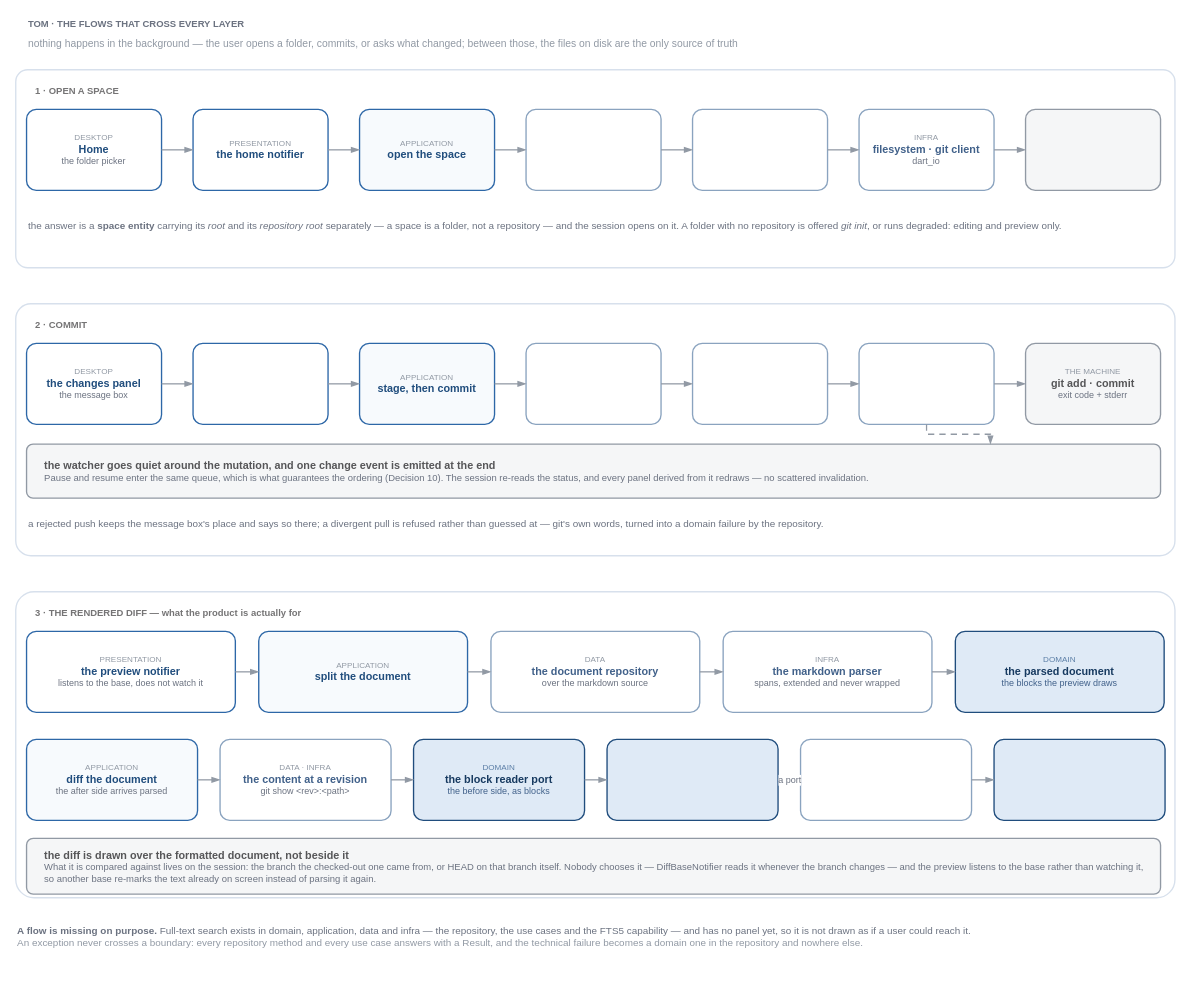
The diagram is 1192 pixels wide and 988 high, and some of its shapes have lost their labels. Here are the shapes that lost their labels. From the top down, the centre of each, then its label:
At (x=593, y=149): "DATA the space repository translates the failure".
At (x=759, y=149): "DATA the space source".
At (x=1092, y=149): "THE MACHINE the folder git rev-parse".
At (x=260, y=383): "PRESENTATION the changes notifier".
At (x=593, y=383): "DATA the git repository and the status parser".
At (x=759, y=383): "DATA the git source text, never an entity".
At (x=926, y=383): "INFRA the git client the serialized queue".
At (x=692, y=779): "DOMAIN the block differ aligns by position, pairs by similarity".
At (x=885, y=779): "INFRA the text differ Myers: the positions only".
At (x=1079, y=779): "DOMAIN the document diff added · removed · changed".
